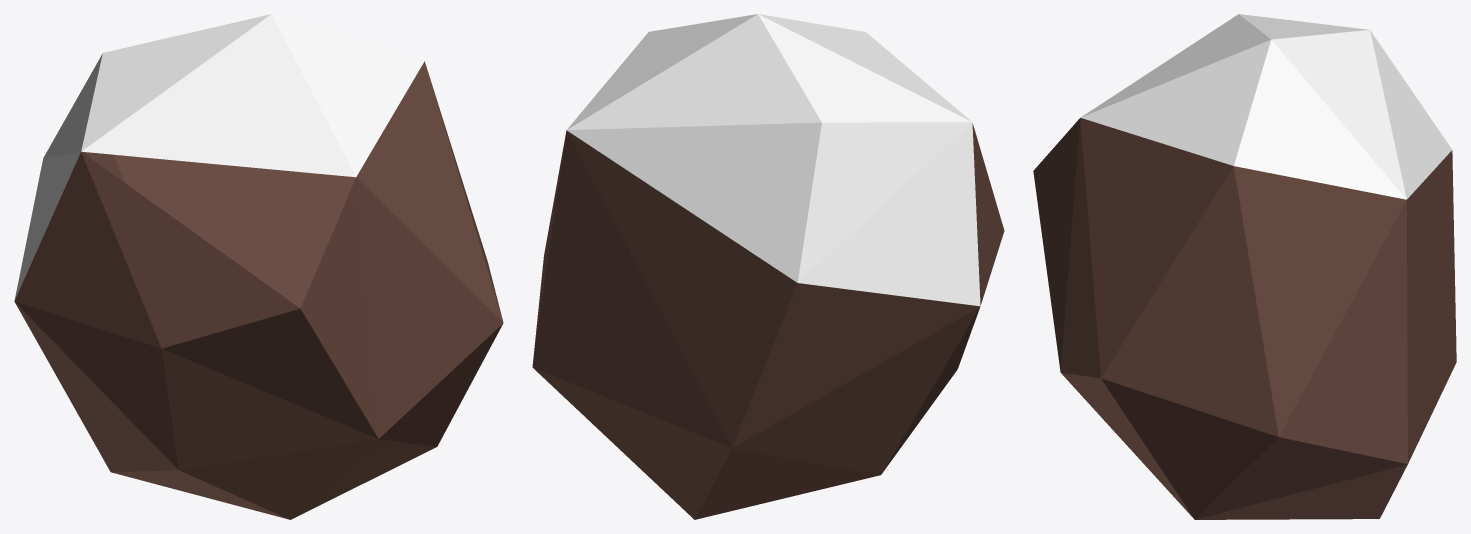
File: snow_stone_005.fbx
3 renders of one model, left to right at view 1: azimuth 30°, elevation 25°; view 2: azimuth 150°, elevation 25°; view 3: azimuth 270°, elevation 25°, orthographic. The views are drawn at different scales.
Visible parts, largest first — view 1: snow_stone_005; view 2: snow_stone_005; view 3: snow_stone_005.
Boxes of the visible parts, left/top/right/bottom form: snow_stone_005: left=14, top=14, right=503, bottom=519; snow_stone_005: left=532, top=14, right=1004, bottom=519; snow_stone_005: left=1033, top=14, right=1456, bottom=519.
Size of the model in its own units: 123 by 100 by 124.
